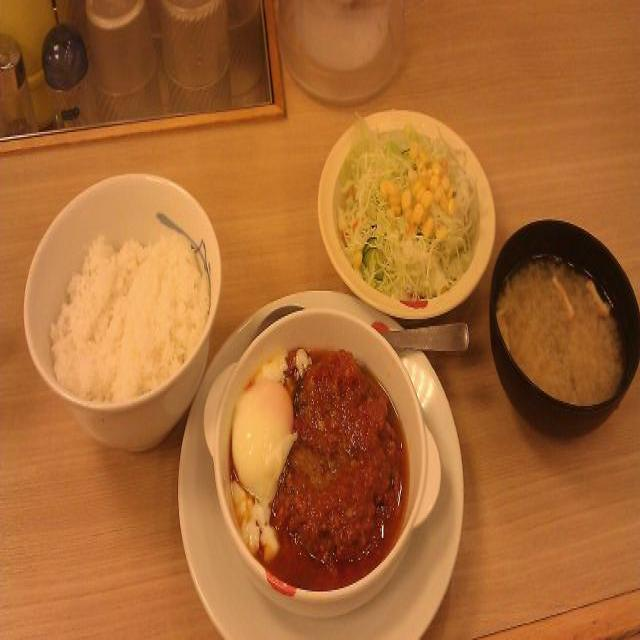Rice: (48, 206, 214, 394)
